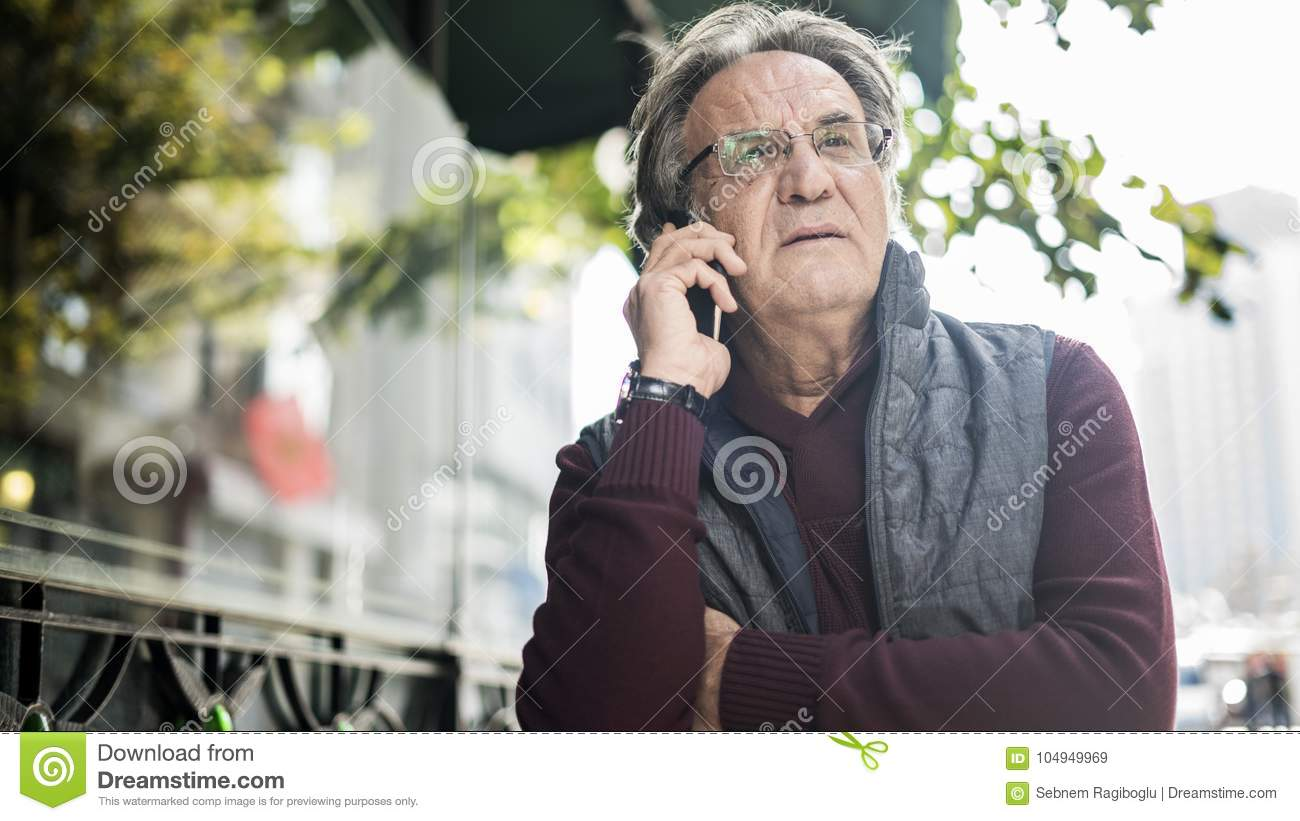phone: (654, 205, 725, 349)
talk: (622, 92, 877, 396)
